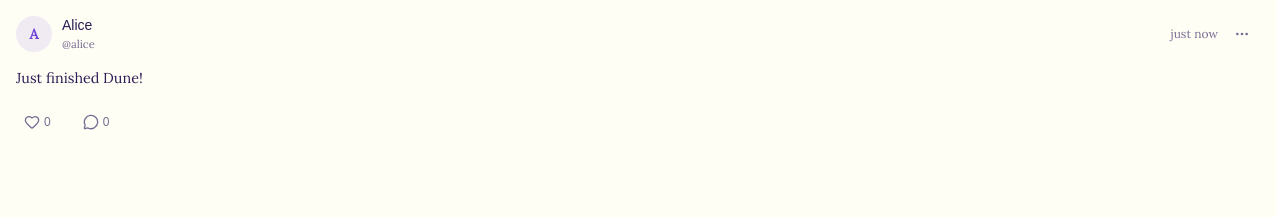
Test case: PostCard — disable comments › shows 'Disable comments' in the owner menu when comments are enabled
The image size is (1276, 217).
Click the button named "Post options". click: (1242, 34)
box: [1228, 20, 1256, 48]
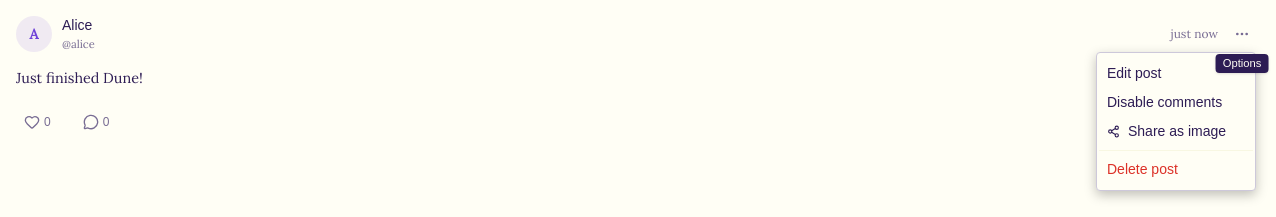
Now the menu item "Disable comments" is shown, box [1107, 94, 1222, 110]
